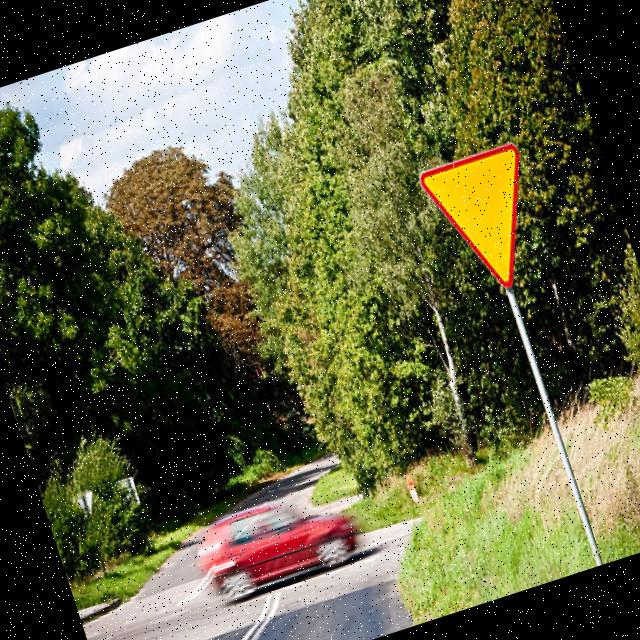give_way: (406, 123, 568, 314)
